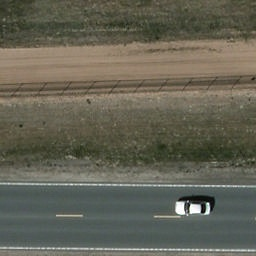car: (176, 202, 211, 216)
